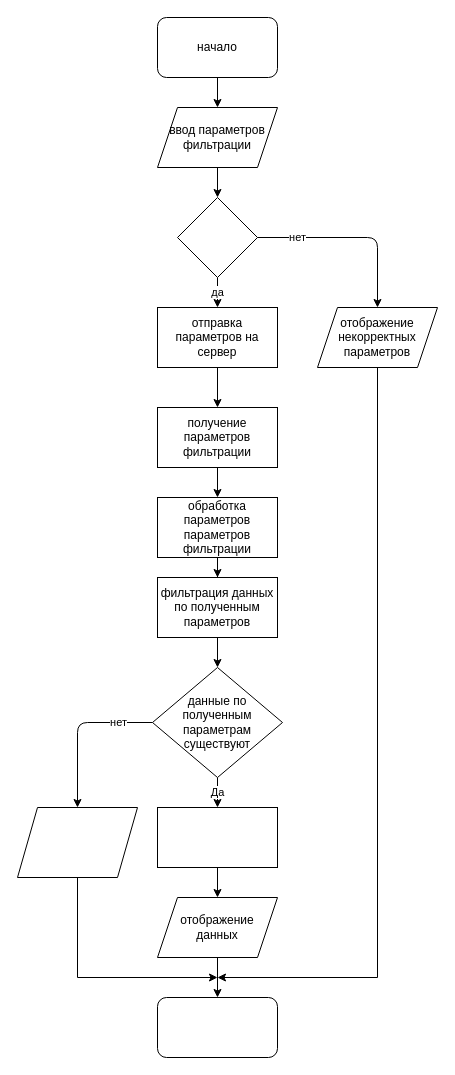
This 455x1075 diagram has some shape labels left out. The shapes that lost their labels are listed below. From the top down, each one's centre as x and y in pixels, then its label:
the point at 217,237: Параметры вадидны
the point at 77,842: отправка сообщения данные не найдены
the point at 217,837: отправка отфильтрованных данных
the point at 217,1027: конец
